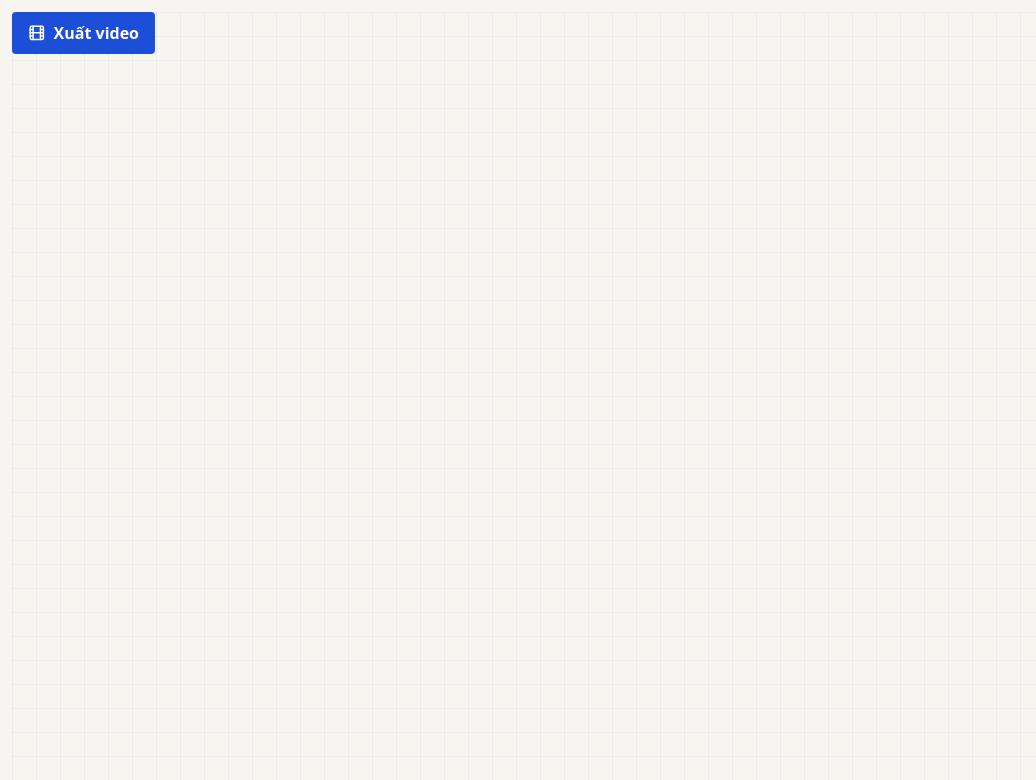
Test case: ExportControls › đổi lựa chọn sau khi xuất: ẩn thông báo của tệp cũ
This screenshot has width=1036, height=780.
Click the button "Xuất video".
click(84, 33)  # box [12, 12, 155, 54]
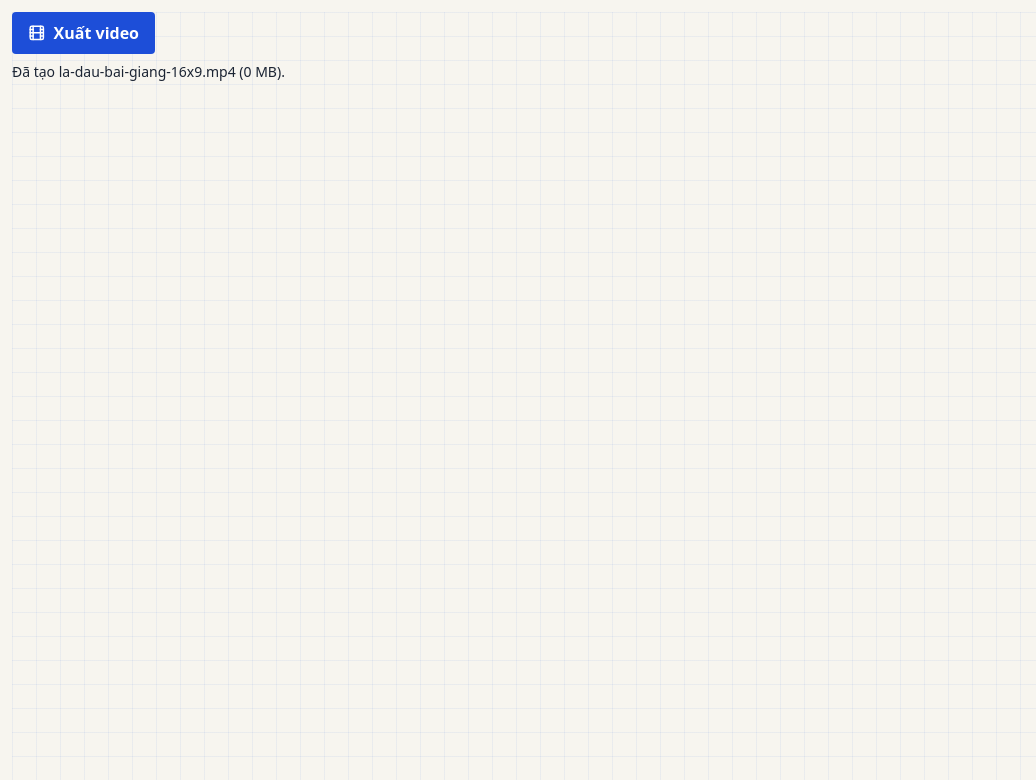
Now the text "Đã tạo la-dau-bai-giang-16x9.mp4 (0 MB)." is shown, box [12, 62, 285, 81]
